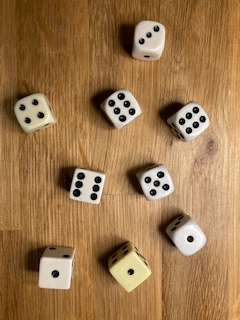five: (135, 164, 176, 201)
four: (13, 93, 56, 132)
one: (106, 241, 153, 293), (165, 213, 208, 257), (37, 245, 76, 292)
six: (167, 101, 213, 143), (101, 88, 144, 129), (68, 167, 106, 206)
three: (132, 19, 166, 62)
